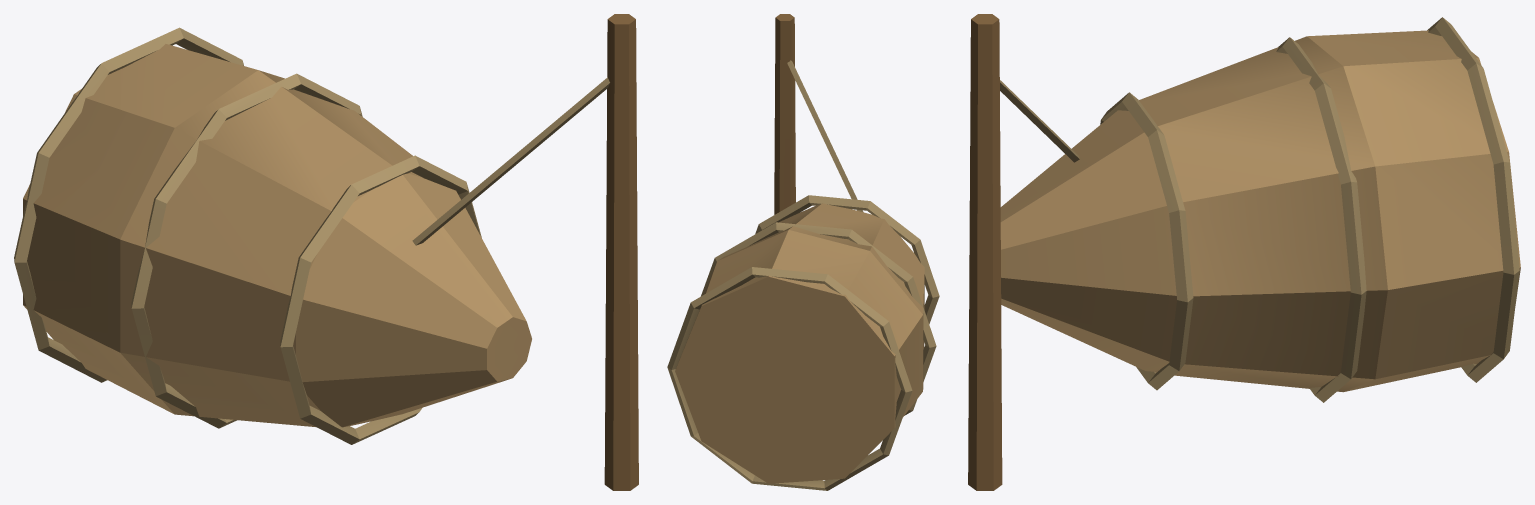
The model's file is FishTrap.fbx.
3 renders of one model, left to right at view 1: azimuth 30°, elevation 25°; view 2: azimuth 150°, elevation 25°; view 3: azimuth 270°, elevation 25°, orthographic. The views are drawn at different scales.
Parts seen in each view (by area): view 1: FishTrap; view 2: FishTrap; view 3: FishTrap.
Boxes of the visible parts, x1,y1,x2,y2 form: FishTrap: (14,14,638,490); FishTrap: (667,14,939,490); FishTrap: (968,14,1520,490).
Size of the model in its own units: 0.8306 by 0.9 by 0.9687.
